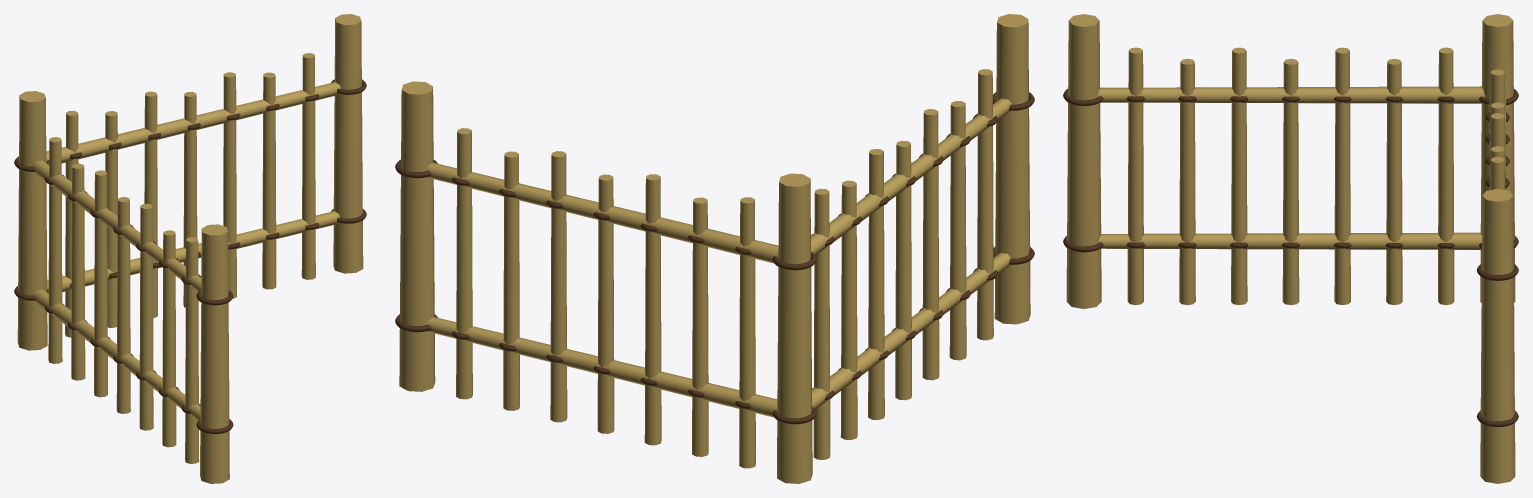
The model's file is LV_HANG_RAO_TRE_GOC_01.glb.
3 views of the same model, side by side, from view 1: azimuth 30°, elevation 25°; view 2: azimuth 150°, elevation 25°; view 3: azimuth 270°, elevation 25° (orthographic). The views are drawn at different scales.
Visible parts, largest first — view 1: LV_HANG_RAO_TRE_GOC_01-surface-b59b56, LV_HANG_RAO_TRE_GOC_01-surface-50351f; view 2: LV_HANG_RAO_TRE_GOC_01-surface-b59b56, LV_HANG_RAO_TRE_GOC_01-surface-50351f; view 3: LV_HANG_RAO_TRE_GOC_01-surface-b59b56, LV_HANG_RAO_TRE_GOC_01-surface-50351f.
Boxes of the visible parts, x1,y1,x2,y2 form: LV_HANG_RAO_TRE_GOC_01-surface-b59b56: [17, 14, 363, 483]; LV_HANG_RAO_TRE_GOC_01-surface-50351f: [14, 79, 366, 433]; LV_HANG_RAO_TRE_GOC_01-surface-b59b56: [399, 14, 1030, 483]; LV_HANG_RAO_TRE_GOC_01-surface-50351f: [395, 92, 1034, 424]; LV_HANG_RAO_TRE_GOC_01-surface-b59b56: [1066, 14, 1515, 483]; LV_HANG_RAO_TRE_GOC_01-surface-50351f: [1063, 89, 1518, 426].
Bounding box in the file's own units: 2.2 × 1.5 × 2.2.
